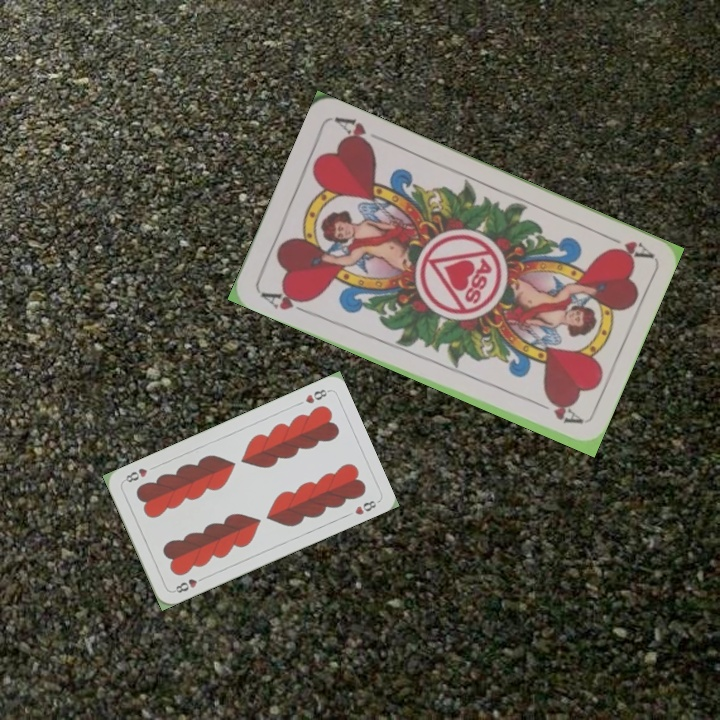H8: (169, 573, 208, 596), (302, 385, 331, 406)
HA: (597, 229, 654, 263), (256, 285, 313, 317)
